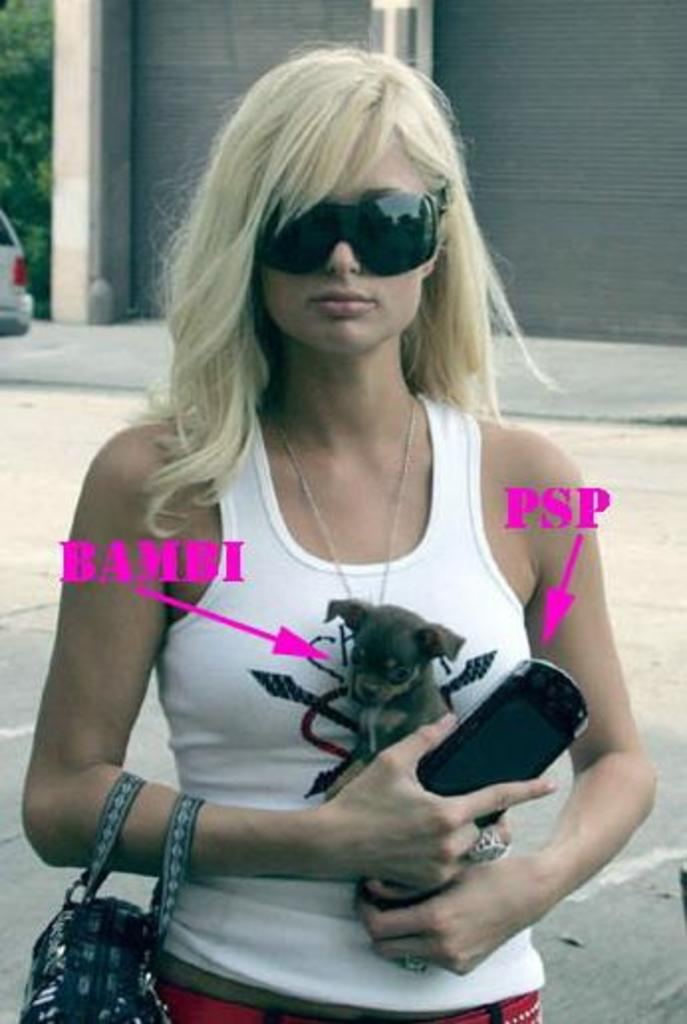Human_hand: (286, 754, 552, 889), (345, 849, 556, 976)
